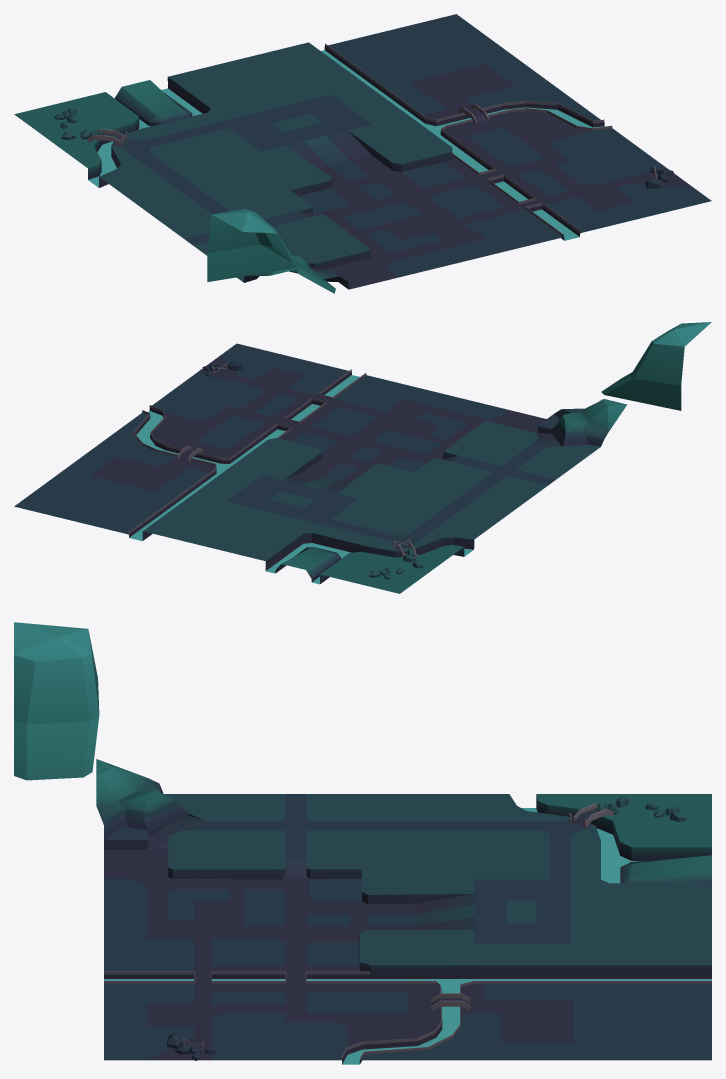
The model's file is WORLD.gltf.
3 views of the same model, one above another, from view 1: azimuth 30°, elevation 25°; view 2: azimuth 150°, elevation 25°; view 3: azimuth 270°, elevation 25° (orthographic). The views are drawn at different scales.
Visible parts, largest first — view 1: WORLD; view 2: WORLD; view 3: WORLD.
Part boxes in pixels (x1,y1,x2,y2): WORLD: (14,14,711,293); WORLD: (14,322,711,593); WORLD: (14,622,711,1064).
Bounding box in the file's own units: 275 × 65.89 × 276.
2 materials, 2 textured.
